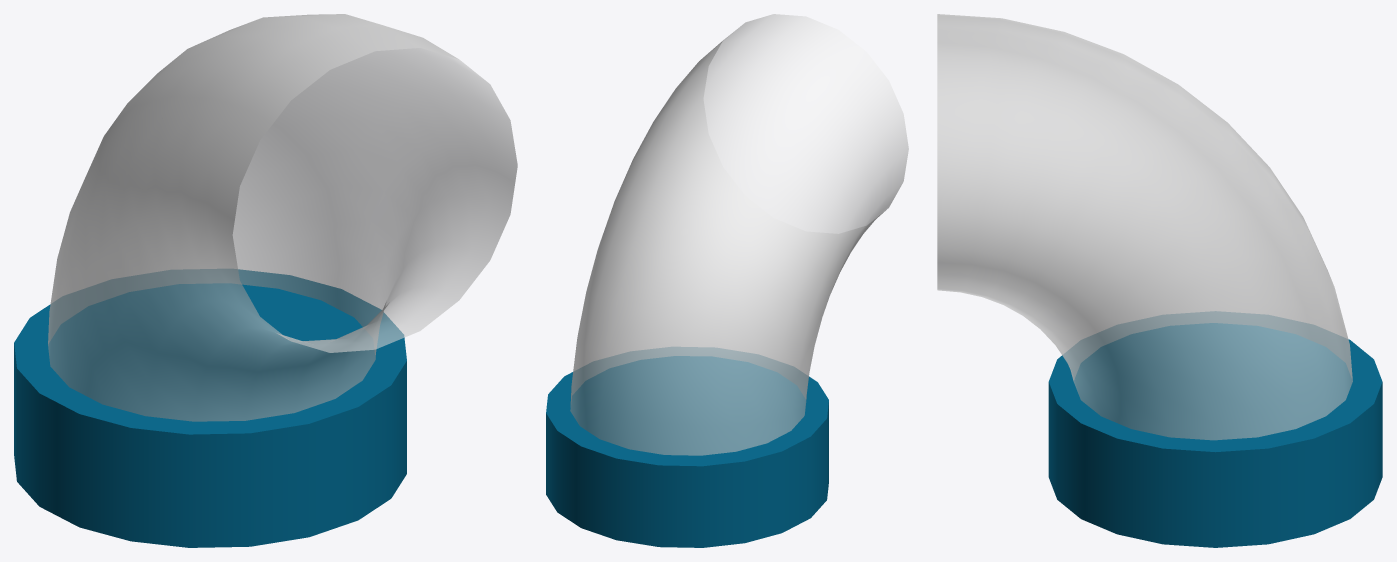
Rendered from G01_029_PipeC.fbx.
The picture shows the model from 3 angles, left to right: view 1: azimuth 30°, elevation 25°; view 2: azimuth 150°, elevation 25°; view 3: azimuth 270°, elevation 25°; orthographic projection. The views are drawn at different scales.
Parts seen in each view (by area): view 1: 016_Pipe_01_B, Line.002; view 2: 016_Pipe_01_B, Line.002; view 3: 016_Pipe_01_B, Line.002.
Boxes of the visible parts, box(x1,y1,x2,y2) form: 016_Pipe_01_B: box(48, 14, 517, 421); Line.002: box(14, 269, 406, 547); 016_Pipe_01_B: box(570, 14, 908, 455); Line.002: box(546, 347, 828, 547); 016_Pipe_01_B: box(937, 14, 1352, 440); Line.002: box(1048, 311, 1382, 547).
Size of the model in its own units: 60 by 89.5 by 80.
